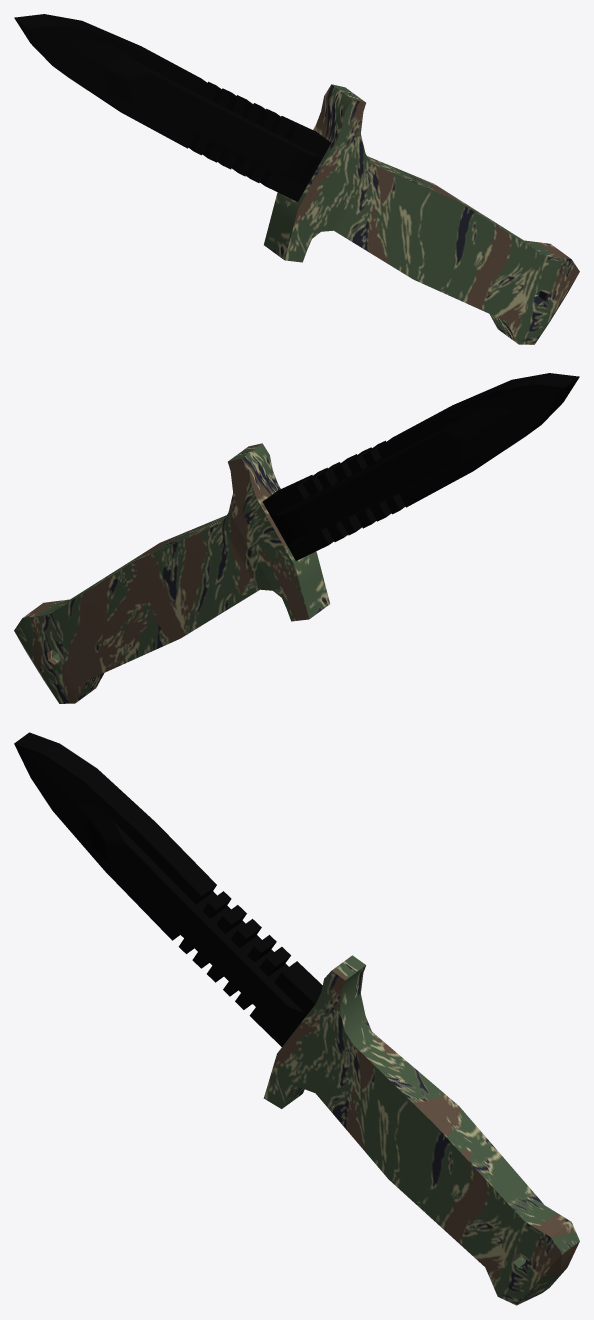
Rendered from Knife.glb.
3 views of the same model, one above another, from view 1: azimuth 30°, elevation 25°; view 2: azimuth 150°, elevation 25°; view 3: azimuth 330°, elevation 25° (orthographic).
Parts seen in each view (by area): view 1: Cube; view 2: Cube; view 3: Cube.
Part boxes in pixels (x1,y1,x2,y2): Cube: (14, 14, 579, 344); Cube: (14, 373, 579, 703); Cube: (14, 732, 579, 1305).
Bounding box in the file's own units: 4.29 × 3.27 × 0.3357.
Materials: 2 (1 with a texture image).
